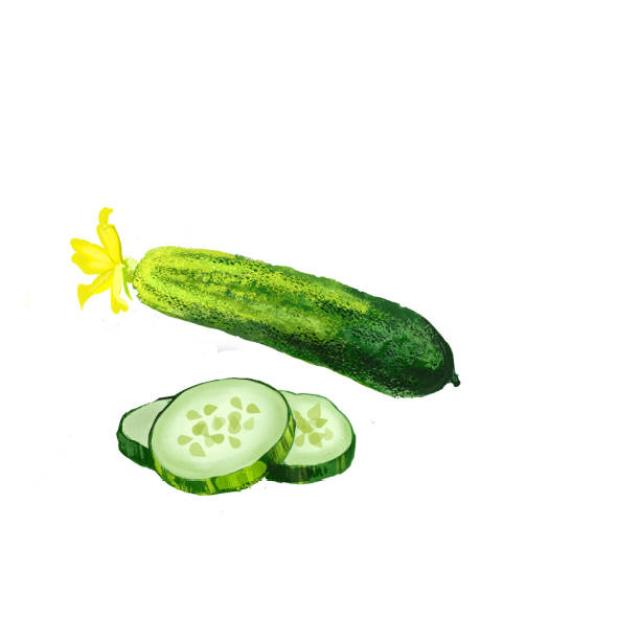cucumber: (135, 245, 453, 398)
